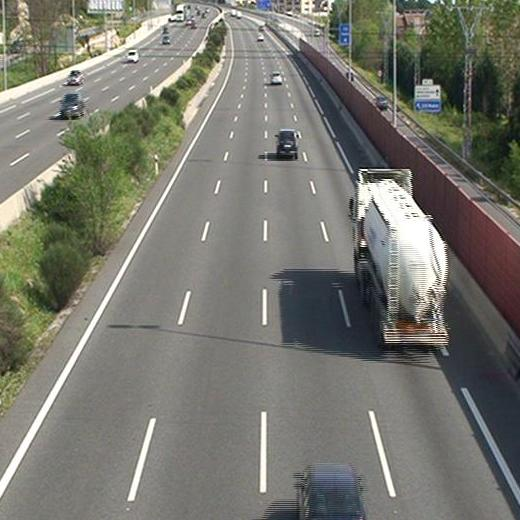car: (295, 464, 367, 519), (275, 129, 297, 157), (270, 72, 283, 85)
tank-truck: (349, 169, 449, 349)
